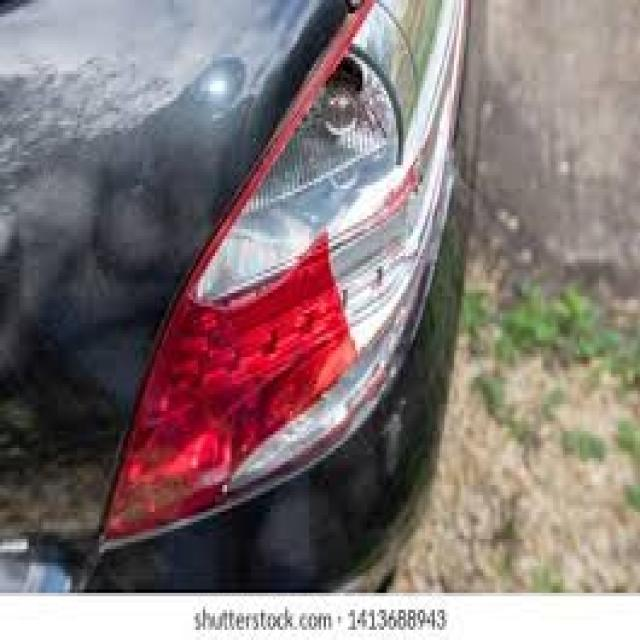damaged-tail-light: (102, 3, 468, 540)
